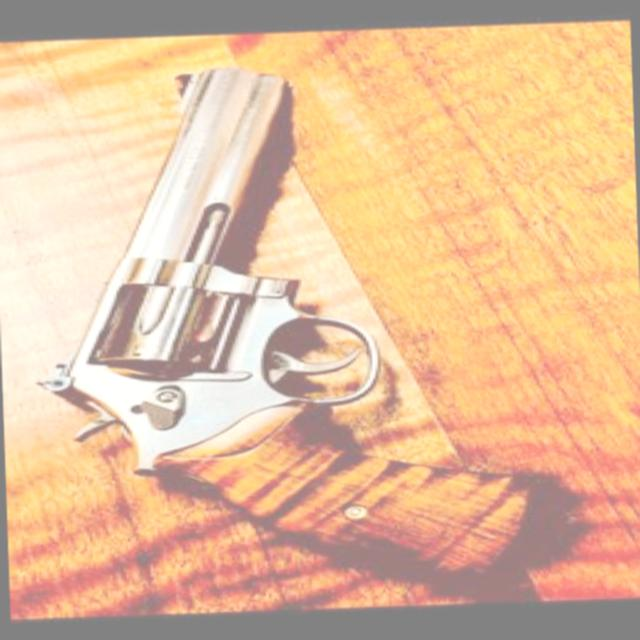revolver: (0, 26, 627, 617)
